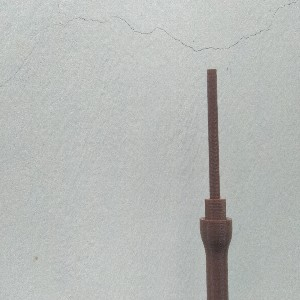obeng: (199, 68, 233, 300)
